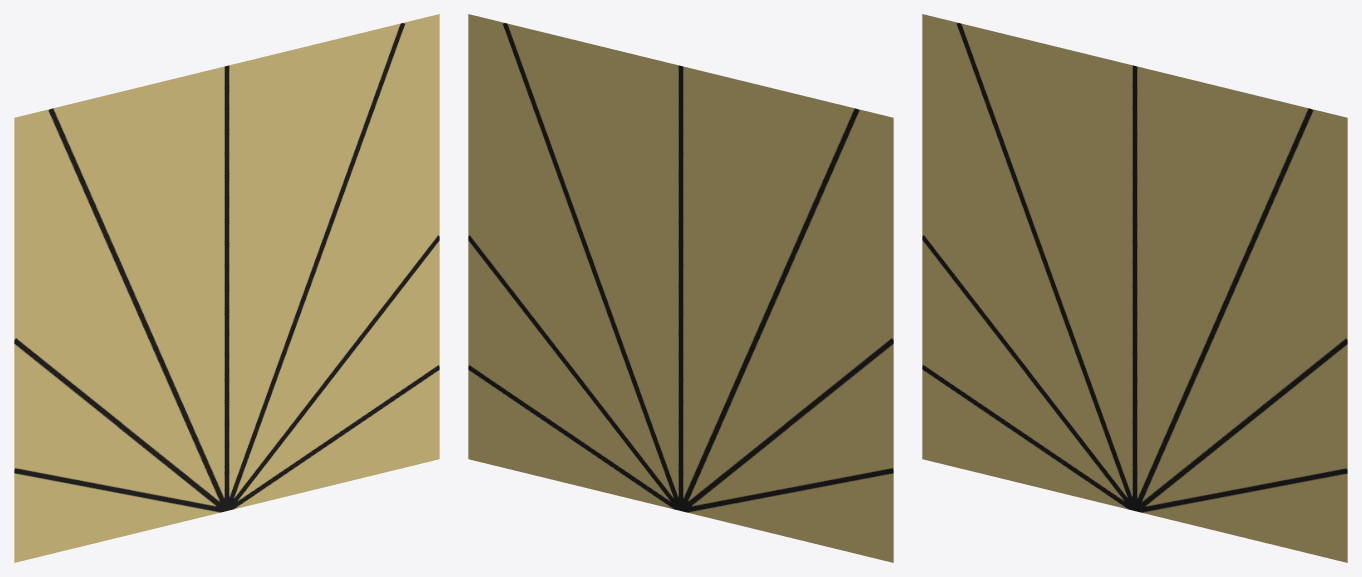
Rendered from fold_plane.obj.
3 views of the same model, side by side, from view 1: azimuth 30°, elevation 25°; view 2: azimuth 150°, elevation 25°; view 3: azimuth 330°, elevation 25° (orthographic).
Size of the model in its own units: 2 by 2 by 0.
Materials: 1 (1 with a texture image).
